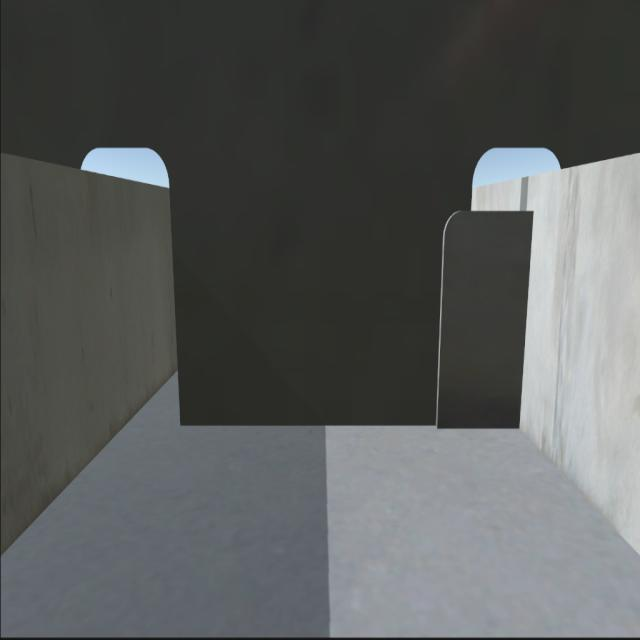fillet_yong_jeop_jang: (181, 423, 523, 433)
longi_yong_jeop_jang: (522, 212, 534, 438)
plate_CP05: (434, 214, 532, 437)
